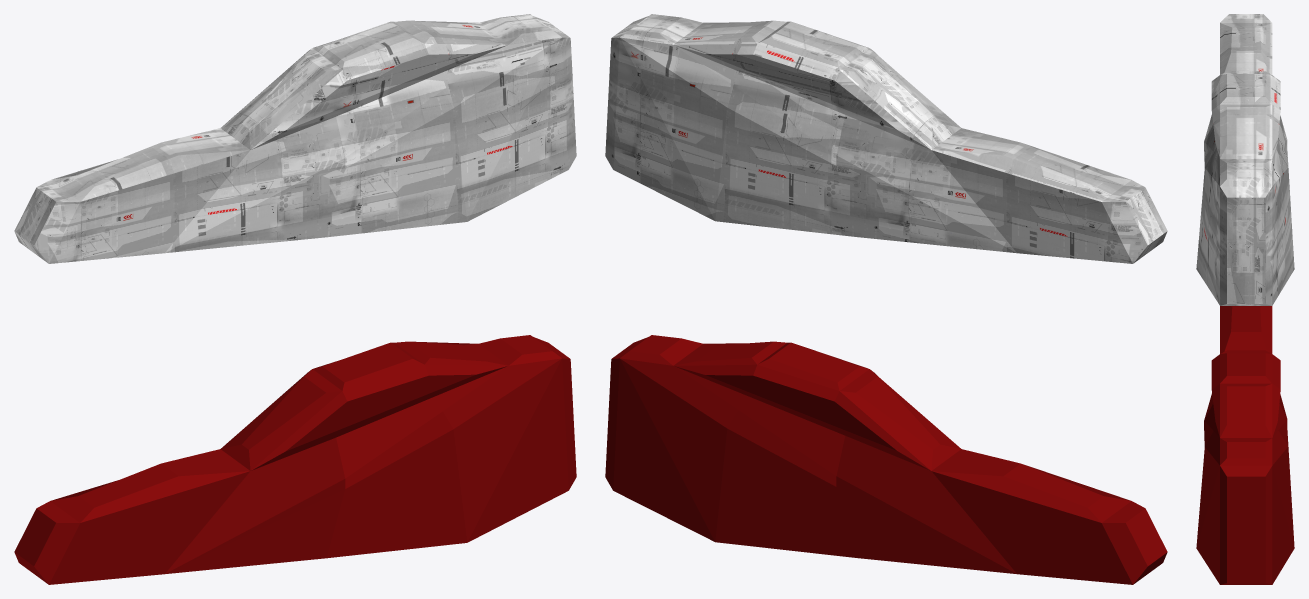
3 views of the same model, side by side, from view 1: azimuth 30°, elevation 25°; view 2: azimuth 150°, elevation 25°; view 3: azimuth 270°, elevation 25° (orthographic). The views are drawn at different scales.
Parts seen in each view (by area): view 1: Line001, Line002; view 2: Line001, Line002; view 3: Line001, Line002.
Part boxes in pixels (x1,y1,x2,y2): Line001: (14, 14, 576, 263); Line002: (14, 335, 576, 584); Line001: (605, 14, 1167, 263); Line002: (605, 335, 1167, 584); Line001: (1196, 14, 1294, 305); Line002: (1196, 306, 1294, 584).
Size of the model in its own units: 259 by 229 by 46.85.
